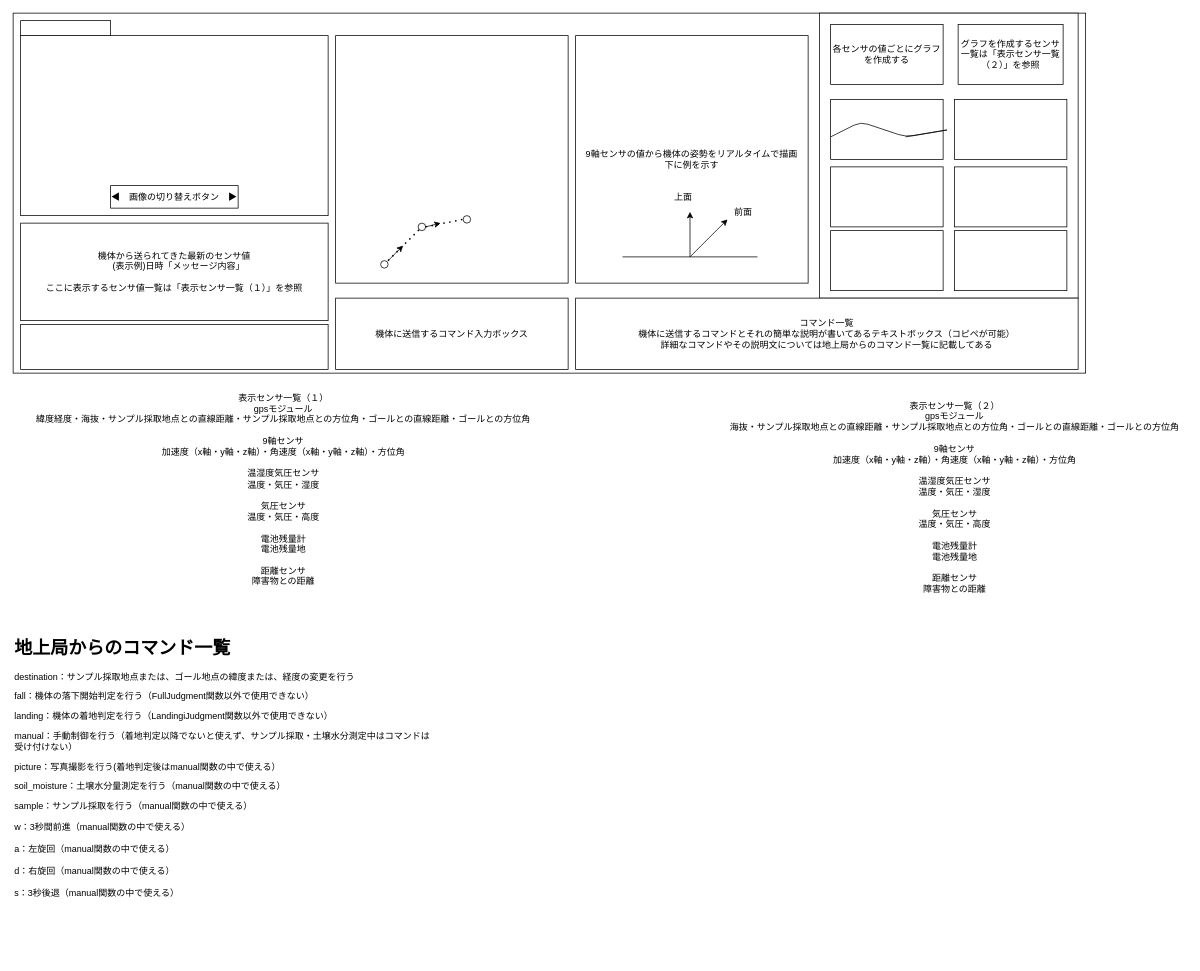
Some shapes in this 1200 by 971 pixel diagram are drawn without their labels. The box of each missing label's shape, as (x1, y1, x2, y2) in pixels:
カメラの画像: (20, 35, 328, 216)
撮影日時: (20, 20, 111, 36)
機体から送信されたメッセージ一覧 日時 「メッセージ内容」 日時 「メッセージ内容」: (20, 324, 328, 369)
機体から送信された緯度経度・9軸の方位角をマップに落とし込み、進んだルートを線で結び、機体の向きを矢印で示す: (335, 35, 568, 283)
